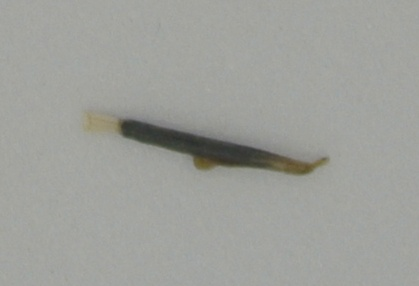เมล็ดงอกแตก: (83, 110, 330, 180)
